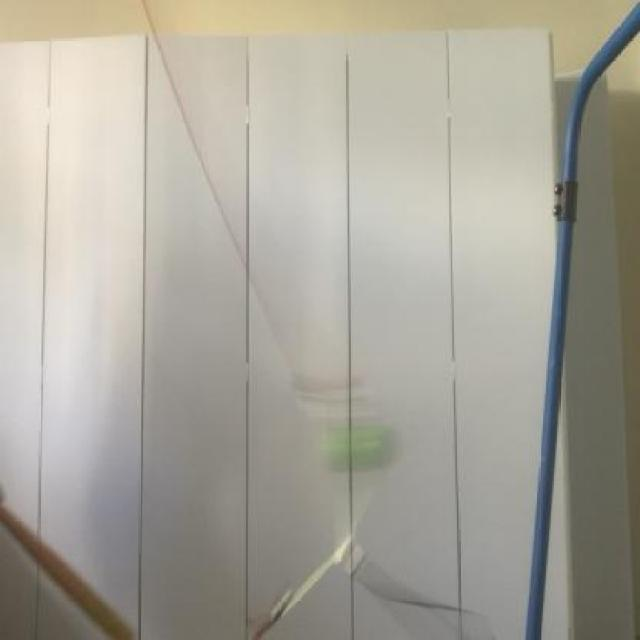baseball: (316, 410, 415, 493)
